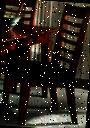Mesa: (0, 18, 59, 105)
Silla: (0, 0, 89, 127)
